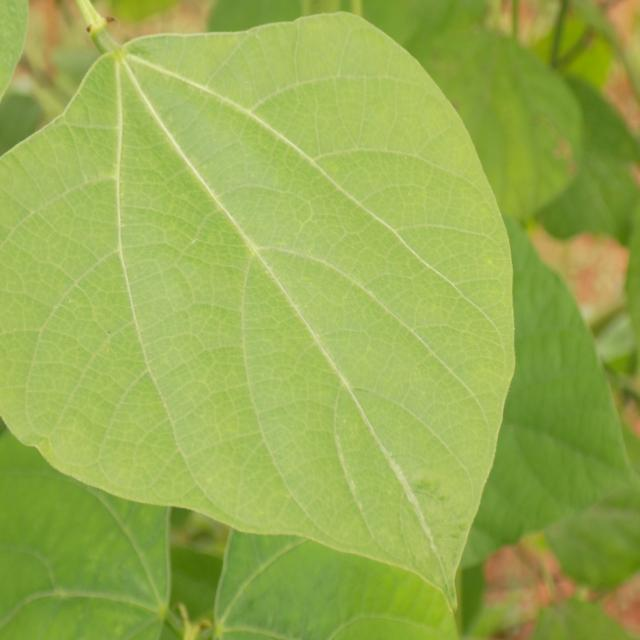Dolicos bean_healthy: (0, 8, 516, 614), (349, 209, 631, 576)
